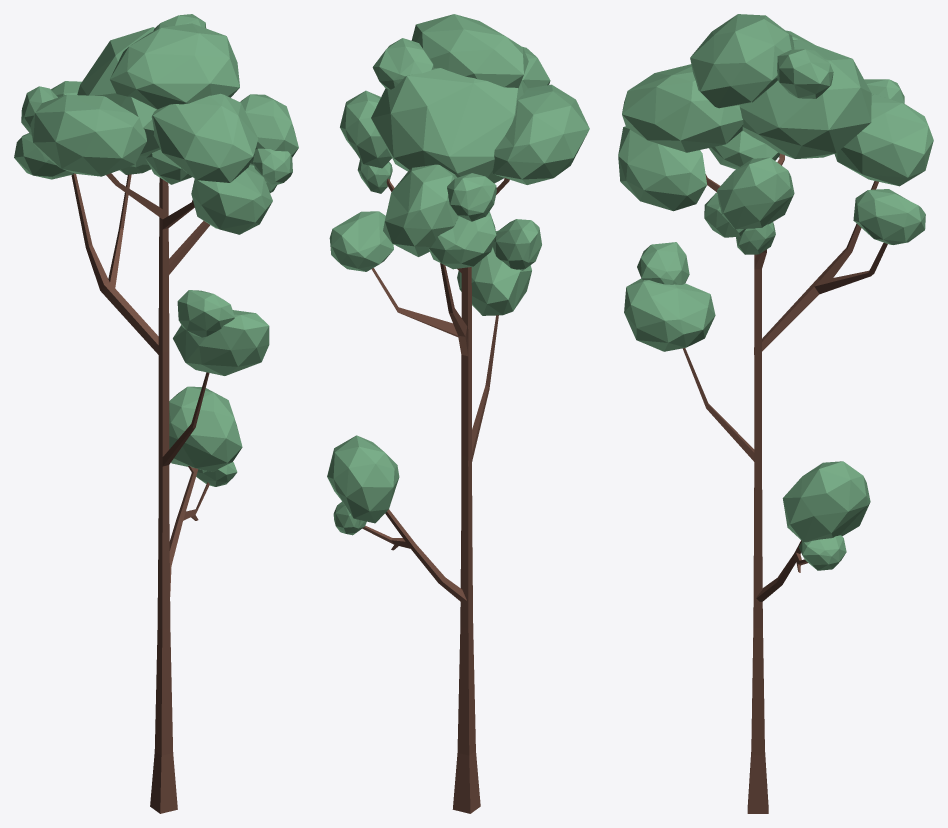
File: sapling2.fbx
The picture shows the model from 3 angles, left to right: view 1: azimuth 30°, elevation 25°; view 2: azimuth 150°, elevation 25°; view 3: azimuth 270°, elevation 25°; orthographic projection.
Visible parts, largest first — view 1: pCube3, pPlatonic16, pPlatonic23, pPlatonic20, pPlatonic2, pPlatonic21, pPlatonic24, pPlatonic17, pPlatonic15, pPlatonic27, pPlatonic22, pPlatonic29 (+4 smaller); view 2: pPlatonic17, pCube3, pPlatonic23, pPlatonic16, pPlatonic18, pPlatonic2, pPlatonic19, pPlatonic21, pPlatonic22, pPlatonic15, pPlatonic27, pPlatonic30 (+5 smaller); view 3: pCube3, pPlatonic17, pPlatonic20, pPlatonic16, pPlatonic18, pPlatonic2, pPlatonic21, pPlatonic24, pPlatonic15, pPlatonic19, pPlatonic30, pPlatonic27 (+6 smaller).
Part boxes in pixels (x1=…): pCube3: x1=71, y1=173, x2=209, y2=813; pPlatonic16: x1=110, y1=23, x2=239, y2=109; pPlatonic23: x1=30, y1=94, x2=146, y2=176; pPlatonic20: x1=151, y1=93, x2=258, y2=182; pPlatonic2: x1=169, y1=386, x2=242, y2=471; pPlatonic21: x1=173, y1=310, x2=269, y2=375; pPlatonic24: x1=191, y1=165, x2=272, y2=234; pPlatonic17: x1=77, y1=27, x2=160, y2=167; pPlatonic15: x1=240, y1=94, x2=298, y2=165; pPlatonic27: x1=177, y1=290, x2=234, y2=337; pPlatonic22: x1=14, y1=133, x2=73, y2=179; pPlatonic29: x1=252, y1=148, x2=292, y2=184; pPlatonic17: x1=371, y1=68, x2=527, y2=183; pCube3: x1=371, y1=178, x2=509, y2=813; pPlatonic23: x1=492, y1=84, x2=589, y2=184; pPlatonic16: x1=411, y1=14, x2=528, y2=87; pPlatonic18: x1=383, y1=164, x2=458, y2=256; pPlatonic2: x1=327, y1=435, x2=399, y2=523; pPlatonic19: x1=329, y1=211, x2=393, y2=271; pPlatonic21: x1=457, y1=231, x2=531, y2=315; pPlatonic22: x1=429, y1=211, x2=496, y2=269; pPlatonic15: x1=340, y1=90, x2=391, y2=168; pPlatonic27: x1=492, y1=219, x2=541, y2=270; pPlatonic30: x1=372, y1=38, x2=433, y2=89; pCube3: x1=682, y1=153, x2=887, y2=813; pPlatonic17: x1=739, y1=39, x2=871, y2=158; pPlatonic20: x1=622, y1=64, x2=743, y2=152; pPlatonic16: x1=690, y1=14, x2=794, y2=108; pPlatonic18: x1=834, y1=94, x2=933, y2=186; pPlatonic2: x1=782, y1=461, x2=870, y2=542; pPlatonic21: x1=624, y1=278, x2=715, y2=351; pPlatonic24: x1=618, y1=126, x2=706, y2=211; pPlatonic15: x1=717, y1=157, x2=794, y2=229; pPlatonic19: x1=853, y1=189, x2=925, y2=244; pPlatonic30: x1=777, y1=49, x2=833, y2=98; pPlatonic27: x1=637, y1=242, x2=689, y2=284.
Bounding box in the file's own units: 6.63 × 20.36 × 7.37.
